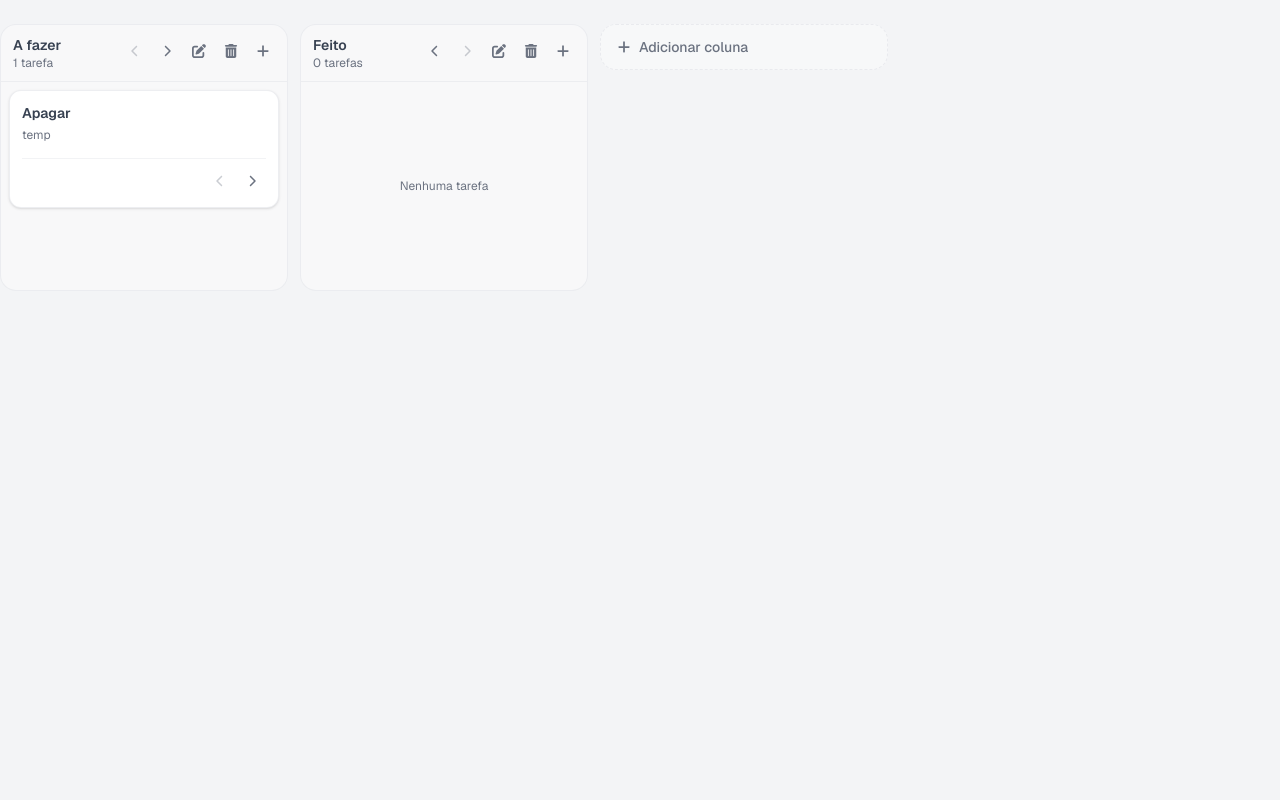
Test: ProjectKanban › abre modal e exclui tarefa
The width and height of the screenshot is (1280, 800).
Click the text "Apagar" at (46, 113), box [22, 104, 71, 122]
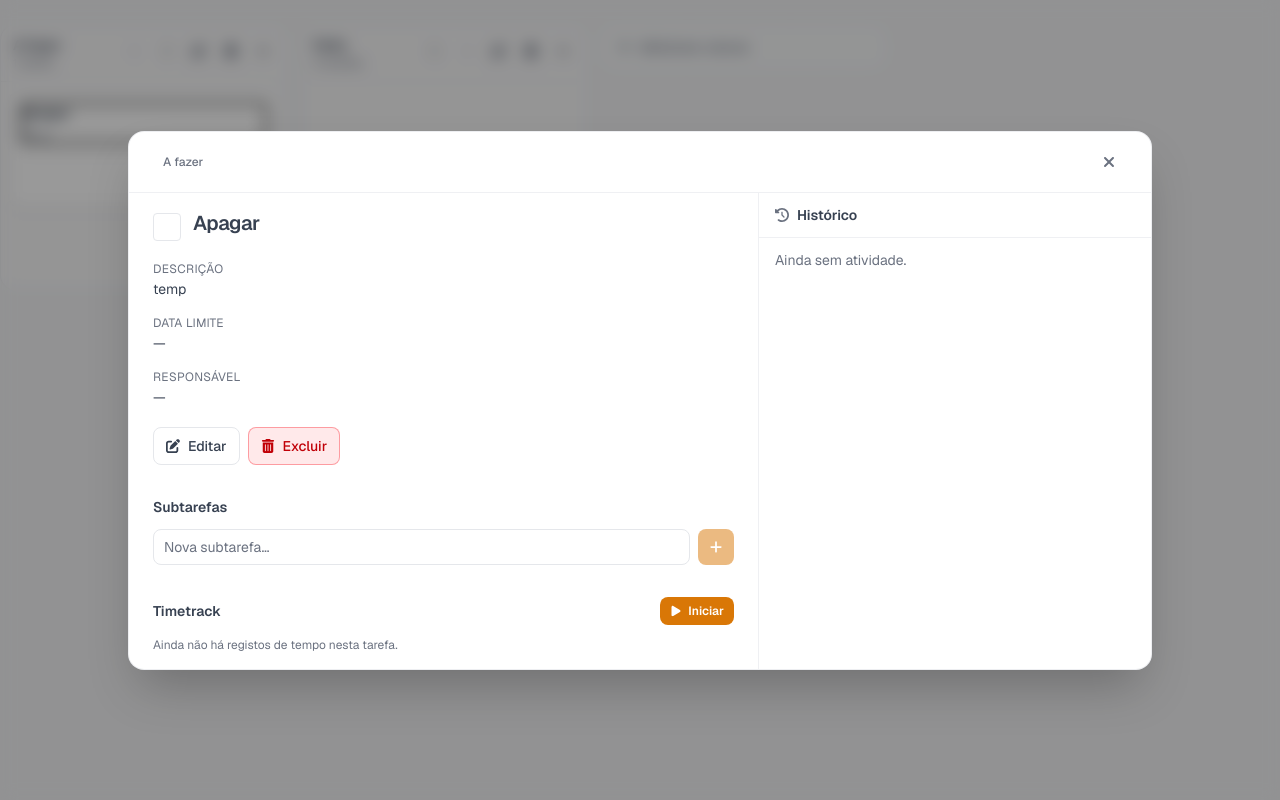
Expected: the dialog named "Detalhe da tarefa" is shown
Expected: the heading "Histórico" is shown, [797, 204, 857, 224]
Click the button "Excluir" at (294, 446), box [248, 426, 340, 464]
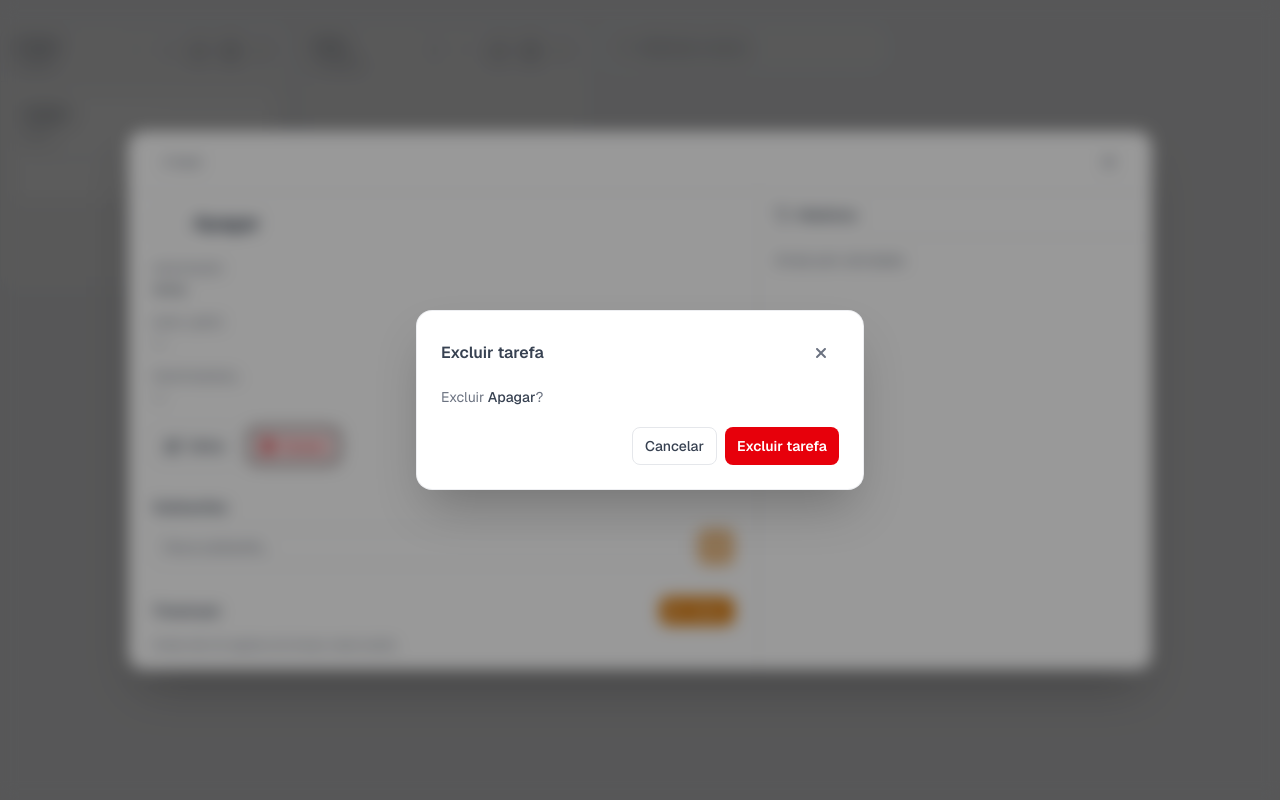
Click the button "Excluir tarefa" at (782, 446), box [725, 427, 839, 465]
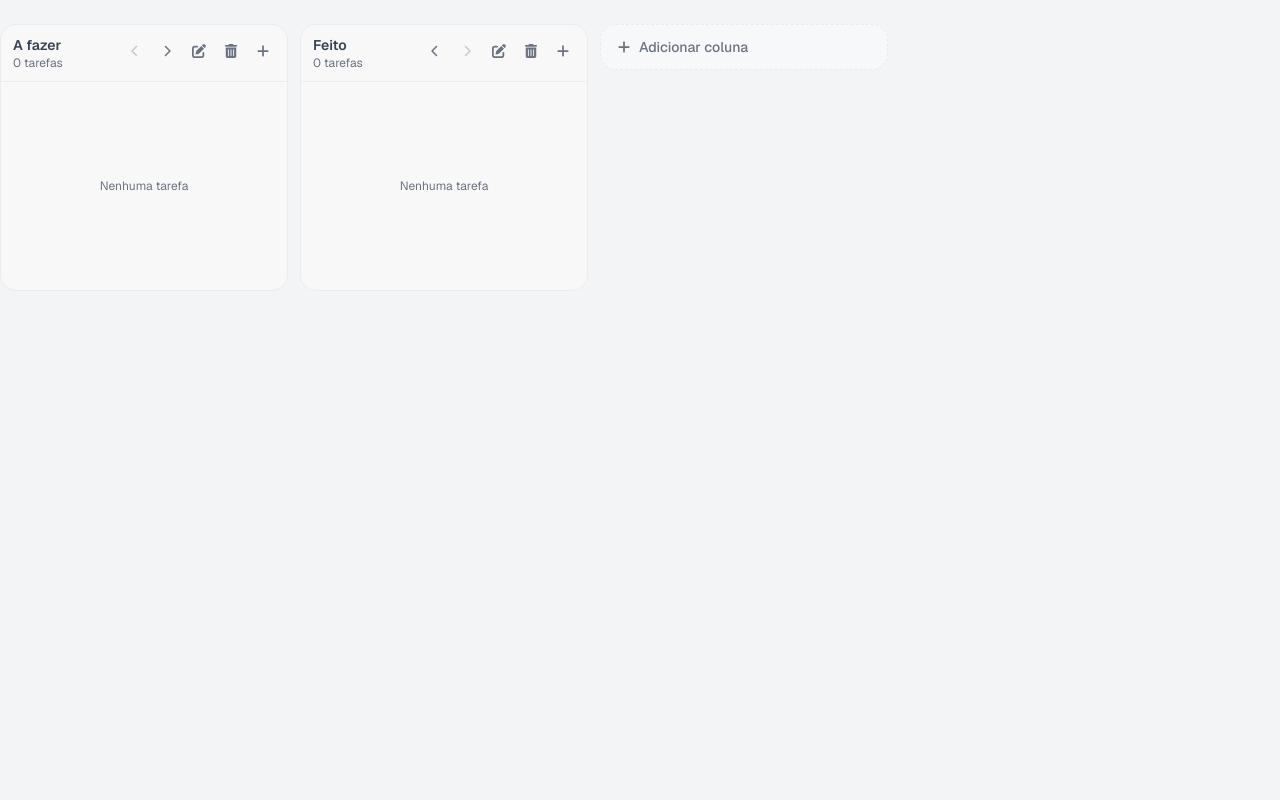
Expected: the button "Apagar" is gone
